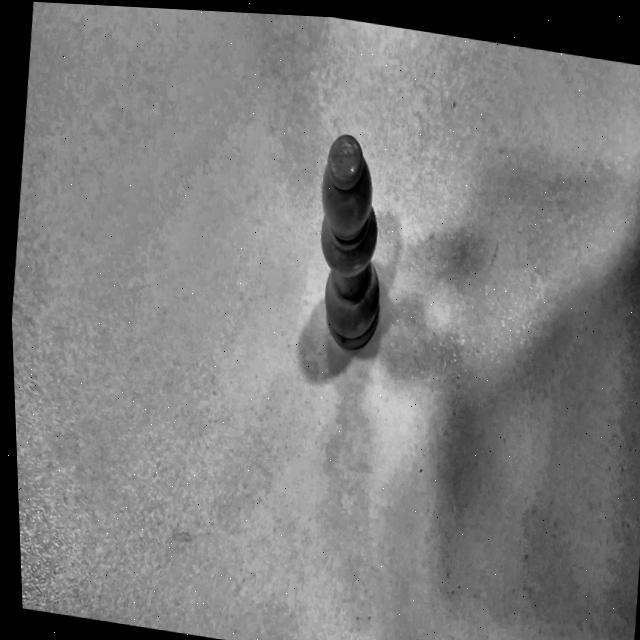white-bishop: (281, 100, 419, 423)
